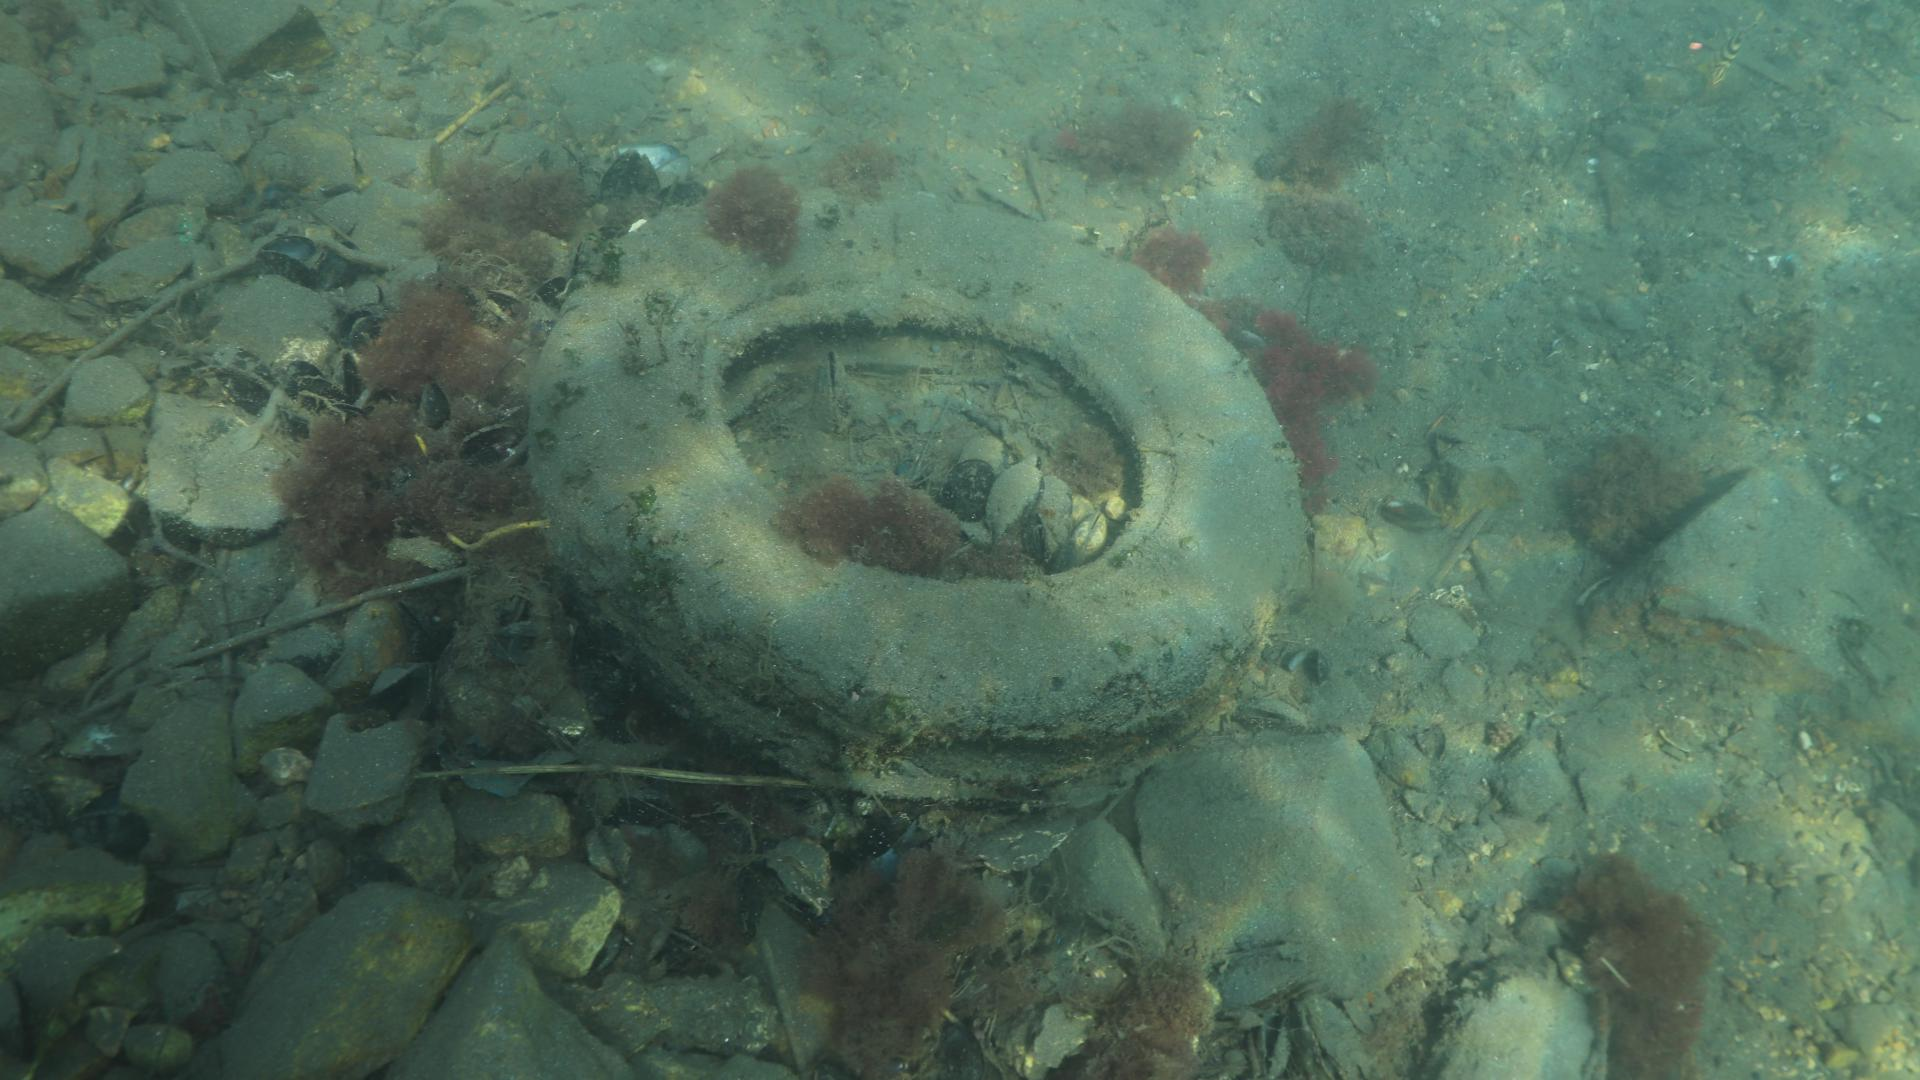tire: (525, 185, 1302, 785)
